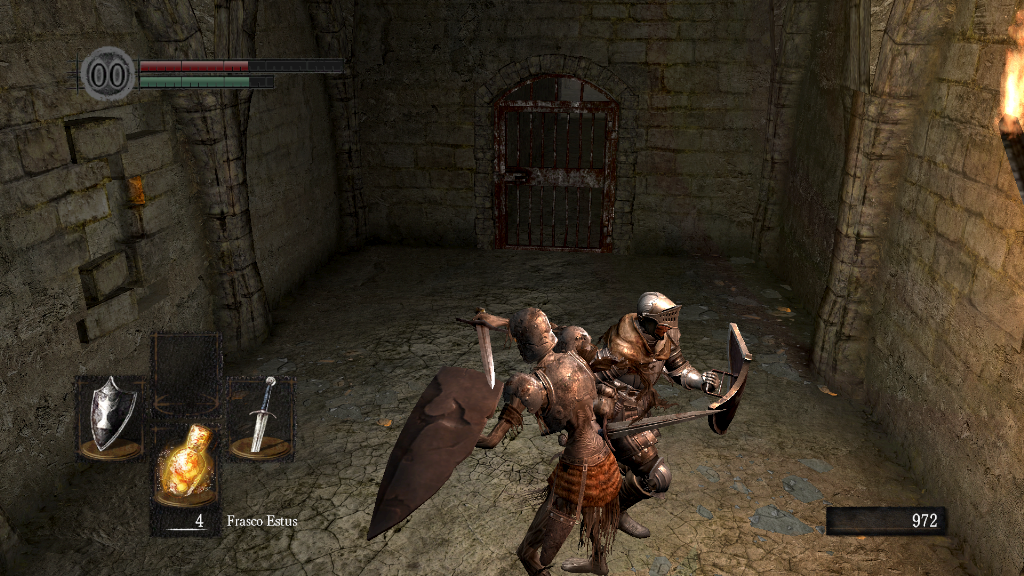health: (138, 58, 343, 71)
humanity: (80, 45, 136, 102)
player: (577, 290, 751, 543)
souls: (825, 506, 945, 536)
stamina: (138, 74, 274, 88)
undeadSoldier: (476, 308, 623, 576)
